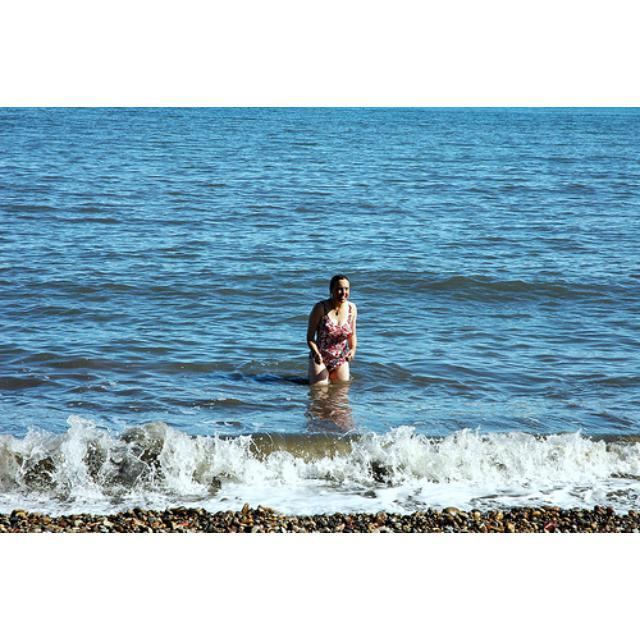human: (305, 271, 362, 391)
